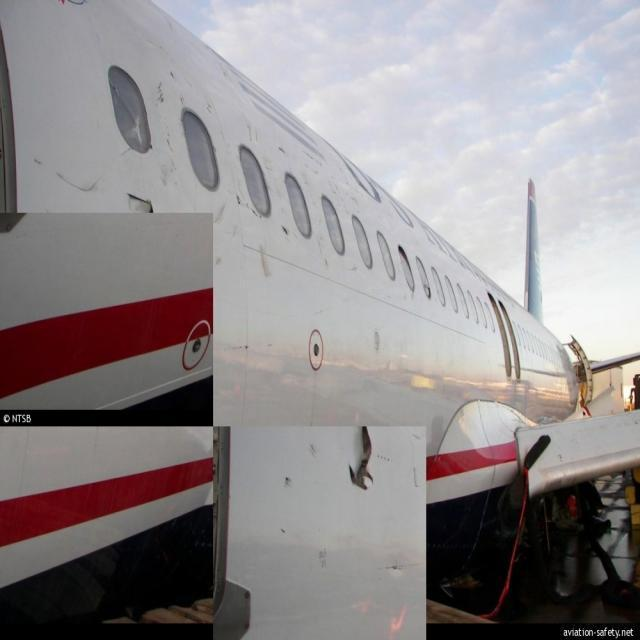crack: (346, 427, 379, 494), (117, 190, 165, 215)
